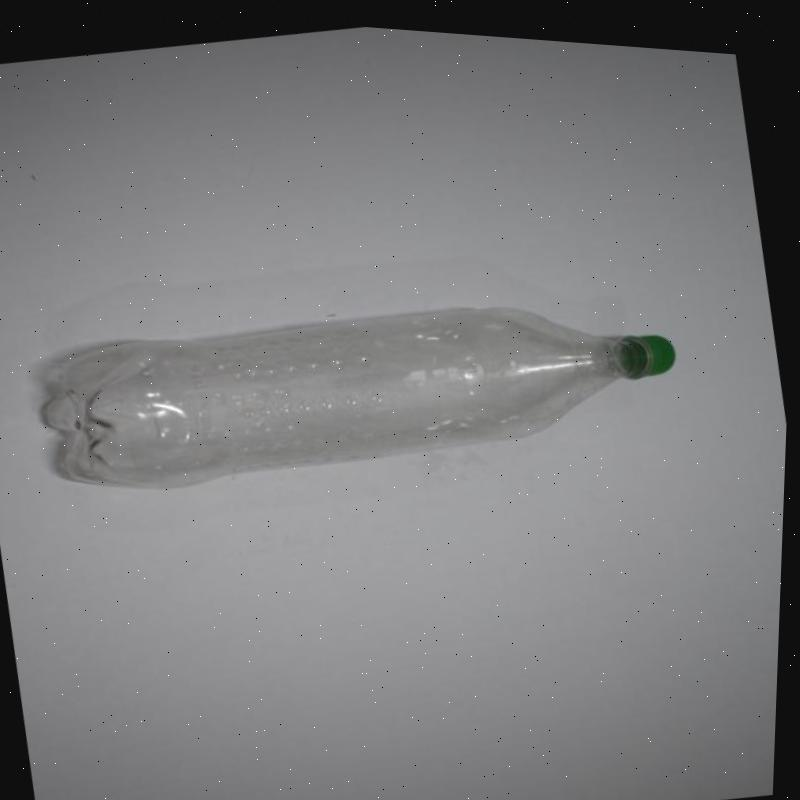botella: (27, 240, 690, 535)
